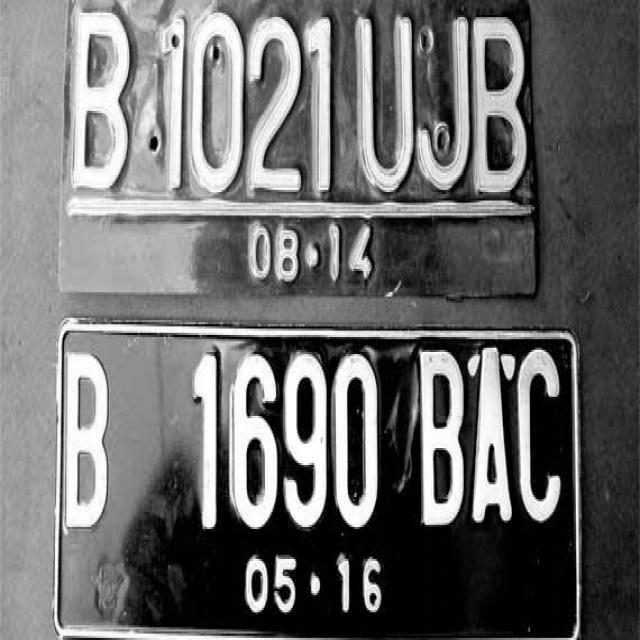0: (188, 10, 249, 193), (333, 356, 385, 530)
1: (180, 340, 224, 548), (154, 13, 197, 190), (303, 14, 341, 206)
2: (244, 11, 306, 198)
6: (223, 356, 281, 548)
9: (283, 343, 327, 534)
A: (466, 340, 510, 538)
B: (55, 345, 128, 548), (67, 10, 136, 192), (470, 11, 529, 194), (411, 345, 466, 538)
C: (511, 340, 568, 536)
J: (418, 16, 473, 188)
U: (350, 10, 419, 192)
